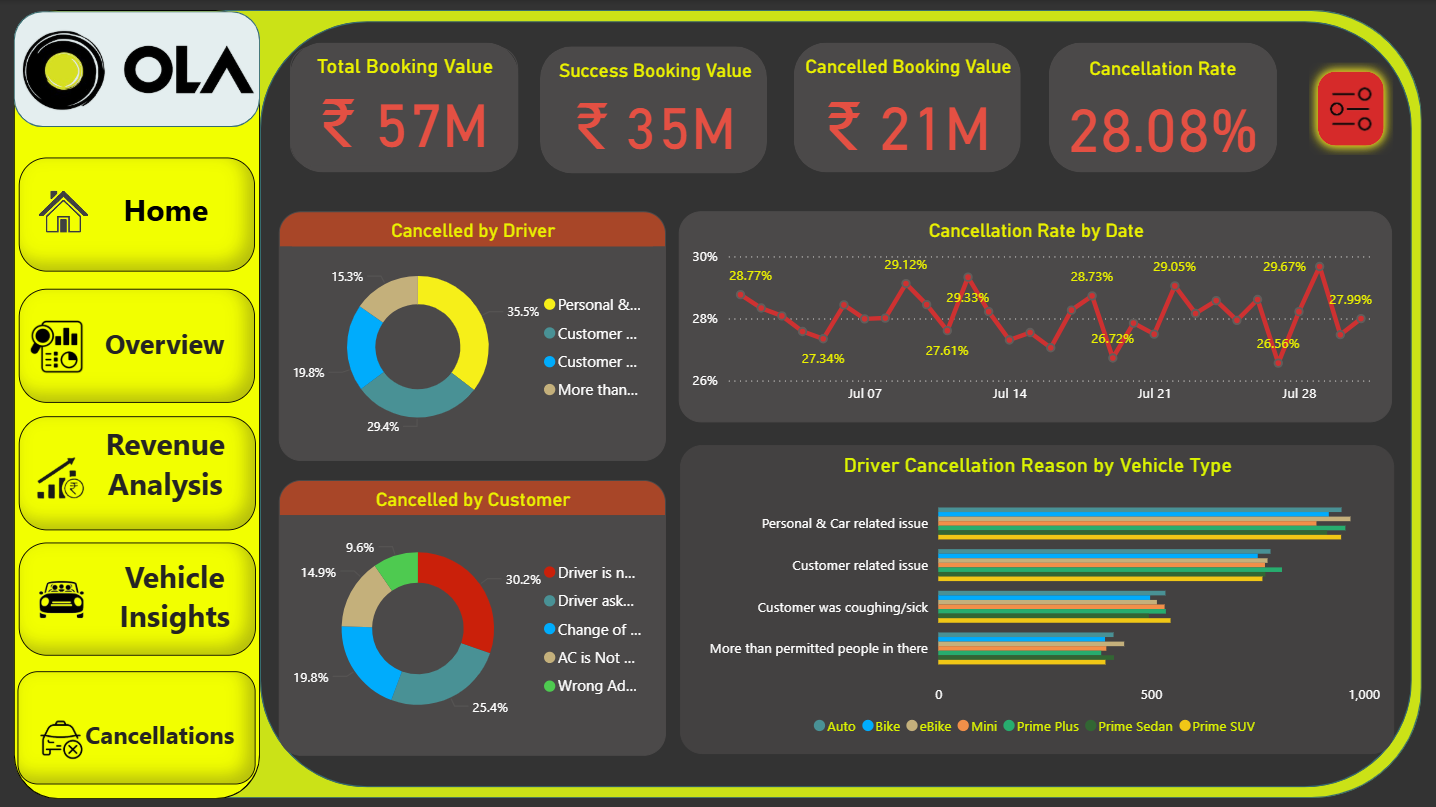

This screenshot's page, from the dashboard's own definition file:
{"tool":"powerbi","page":{"name":"Cancellations","canvas":[1280,720],"ordinal":4},"visuals":[{"type":"shape","box":[12.3,8.6,1254,701.8],"z":0},{"type":"shape","box":[258,37.6,203.6,115.7],"z":0,"group":"g3"},{"type":"group","id":"g1","title":"Group 1","box":[707,37.6,203.7,115.7],"z":0,"group":"g5"},{"type":"shape","box":[707,37.6,202.2,115.7],"z":0,"group":"g1"},{"type":"shape","box":[934.2,37.6,203.6,115.7],"z":0,"group":"g2"},{"type":"shape","box":[481.2,40.5,202.2,113.3],"z":0,"group":"g4"},{"type":"shape","box":[231.9,18.4,1025.8,682.2],"z":1000},{"type":"group","id":"g2","title":"Group 2","box":[934,37.6,203.8,115.7],"z":1000,"group":"g5"},{"type":"card","title":"Total Booking Value","fields":{"Values":["Sum(Booking.Booking_Value)"]},"box":[258.1,40.5,203.6,107.4],"z":1000,"group":"g3"},{"type":"card","title":"Cancelled Booking Value","fields":{"Values":["Sum(Booking.Booking_Value)"]},"box":[708.5,49.2,202.2,99],"z":1000,"group":"g1"},{"type":"card","title":"Cancellation Rate","fields":{"Values":["Booking.Cancellation Rate"]},"box":[934,50.6,203.6,97.6],"z":1000,"group":"g2"},{"type":"card","title":"Success Booking Value","fields":{"Values":["Sum(Booking.Booking_Value)"]},"box":[482.4,51.9,203.6,93.4],"z":1000,"group":"g4"},{"type":"group","id":"g3","title":"Group 3","box":[258,37.6,203.6,115.7],"z":2000,"group":"g5"},{"type":"clusteredBarChart","title":"Driver Cancellation Reason by Vehicle Type","fields":{"Category":["Booking.Cancelled_Ride_by_Driver"],"Y":["CountNonNull(Booking.Vehicle_Type)"],"Series":["Booking.Vehicle_Type"]},"box":[605.2,396.5,635.8,275.5],"z":2000},{"type":"group","id":"g4","title":"Group 4","box":[481.2,40.5,204.8,113.3],"z":3000,"group":"g5"},{"type":"donutChart","title":"Cancelled by Customer","fields":{"Category":["Booking.Cancelled_Ride_by_Customer"],"Y":["CountNonNull(Booking.Booking_ID)"]},"box":[247.9,427,344.8,245.4],"z":3000},{"type":"lineChart","title":"Cancellation Rate by Date","fields":{"Y":["Booking.Cancellation Rate"],"Category":["Booking.Date.Variation.Date Hierarchy.Year","Booking.Date.Variation.Date Hierarchy.Quarter","Booking.Date.Variation.Date Hierarchy.Month","Booking.Date.Variation.Date Hierarchy.Day"]},"box":[604.9,187.7,635.6,187.7],"z":4000},{"type":"donutChart","title":"Cancelled by Driver","fields":{"Y":["CountNonNull(Booking.Booking_ID)"],"Category":["Booking.Cancelled_Ride_by_Driver"]},"box":[247.9,187.7,344.8,222.1],"z":5000},{"type":"actionButton","box":[1165.7,55.2,74.8,82.2],"z":6000},{"type":"group","id":"g5","title":"Group 7","box":[258,37.6,879.8,116.3],"z":7000},{"type":"shape","box":[12.5,8.4,219.4,702.7],"z":8000},{"type":"shape","box":[12.7,9.7,219.4,103.2],"z":9000},{"type":"image","box":[13.9,11,218.2,103.2],"z":10000},{"type":"image","box":[20.9,371.5,62.6,101.6],"z":11000},{"type":"textbox","box":[73,371.4,147.4,84.6],"z":12000},{"type":"actionButton","box":[17.2,370.6,211,101.8],"z":13000},{"type":"image","box":[20.9,257.4,58.4,103],"z":14000},{"type":"textbox","box":[72.3,285.2,148.9,55.7],"z":15000},{"type":"actionButton","box":[16.7,257.4,210.1,101.6],"z":16000},{"type":"textbox","box":[89.6,490.2,130.8,86.8],"z":17000},{"type":"image","box":[23.5,483,61.9,102.7],"z":18000},{"type":"actionButton","box":[17.2,483.4,211,100.6],"z":19000},{"type":"image","box":[25.3,608.3,57,101.6],"z":20000},{"type":"textbox","box":[57,634.4,171.1,50.1],"z":21000},{"type":"actionButton","box":[16,597.5,212.3,100.6],"z":22000},{"type":"image","box":[19.5,140.5,75.1,100.2],"z":23000},{"type":"textbox","box":[91.8,164.2,112.7,51.5],"z":24000},{"type":"actionButton","box":[16.7,140.5,210.1,101.6],"z":25000}]}

Visuals, with their boxes in screenshot pixels (x1, y1, x2, y2), scaled from the page's 1280x720 canvas onto the 1436x807 screenshot:
shape: 14,10,1421,796
shape: 289,42,518,172
"Group 1" group: 793,42,1022,172
shape: 793,42,1020,172
shape: 1048,42,1276,172
shape: 540,45,767,172
shape: 260,21,1411,785
"Group 2" group: 1048,42,1276,172
"Total Booking Value" card: 290,45,518,166
"Cancelled Booking Value" card: 795,55,1022,166
"Cancellation Rate" card: 1048,57,1276,166
"Success Booking Value" card: 541,58,770,163
"Group 3" group: 289,42,518,172
"Driver Cancellation Reason by Vehicle Type" clusteredBarChart: 679,444,1392,753
"Group 4" group: 540,45,770,172
"Cancelled by Customer" donutChart: 278,479,665,754
"Cancellation Rate by Date" lineChart: 679,210,1392,421
"Cancelled by Driver" donutChart: 278,210,665,459
actionButton: 1308,62,1392,154
"Group 7" group: 289,42,1276,172
shape: 14,9,260,797
shape: 14,11,260,127
image: 16,12,260,128
image: 23,416,94,530
textbox: 82,416,247,511
actionButton: 19,415,256,529
image: 23,289,89,404
textbox: 81,320,248,382
actionButton: 19,289,254,402
textbox: 101,549,247,647
image: 26,541,96,656
actionButton: 19,542,256,655
image: 28,682,92,796
textbox: 64,711,256,767
actionButton: 18,670,256,782
image: 22,157,106,270
textbox: 103,184,229,242
actionButton: 19,157,254,271
